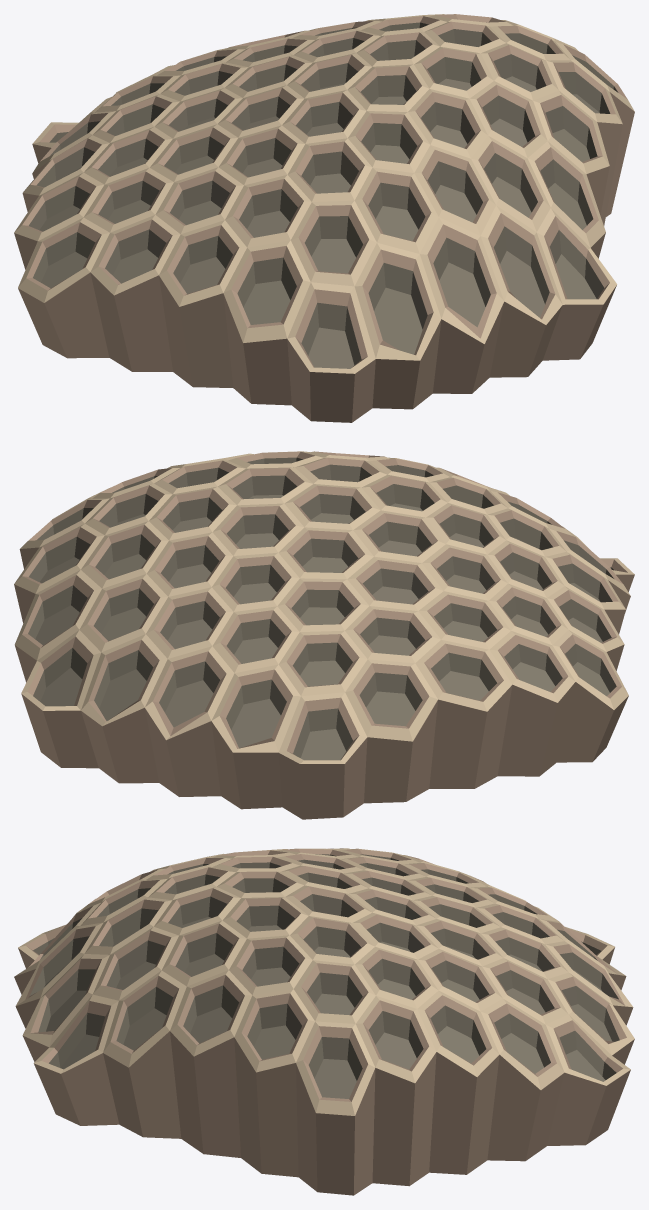
File: favosites.glb
3 views of the same model, one above another, from view 1: azimuth 30°, elevation 25°; view 2: azimuth 150°, elevation 25°; view 3: azimuth 270°, elevation 25° (orthographic). The views are drawn at different scales.
Visible parts, largest first — view 1: welded-honeycomb-colony-with-recessed-calices; view 2: welded-honeycomb-colony-with-recessed-calices; view 3: welded-honeycomb-colony-with-recessed-calices.
Part boxes in pixels (x1,y1,x2,y2): welded-honeycomb-colony-with-recessed-calices: [14, 14, 634, 422]; welded-honeycomb-colony-with-recessed-calices: [14, 451, 634, 819]; welded-honeycomb-colony-with-recessed-calices: [14, 848, 634, 1195].
Size of the model in its own units: 0.1769 by 0.0593 by 0.1667.
